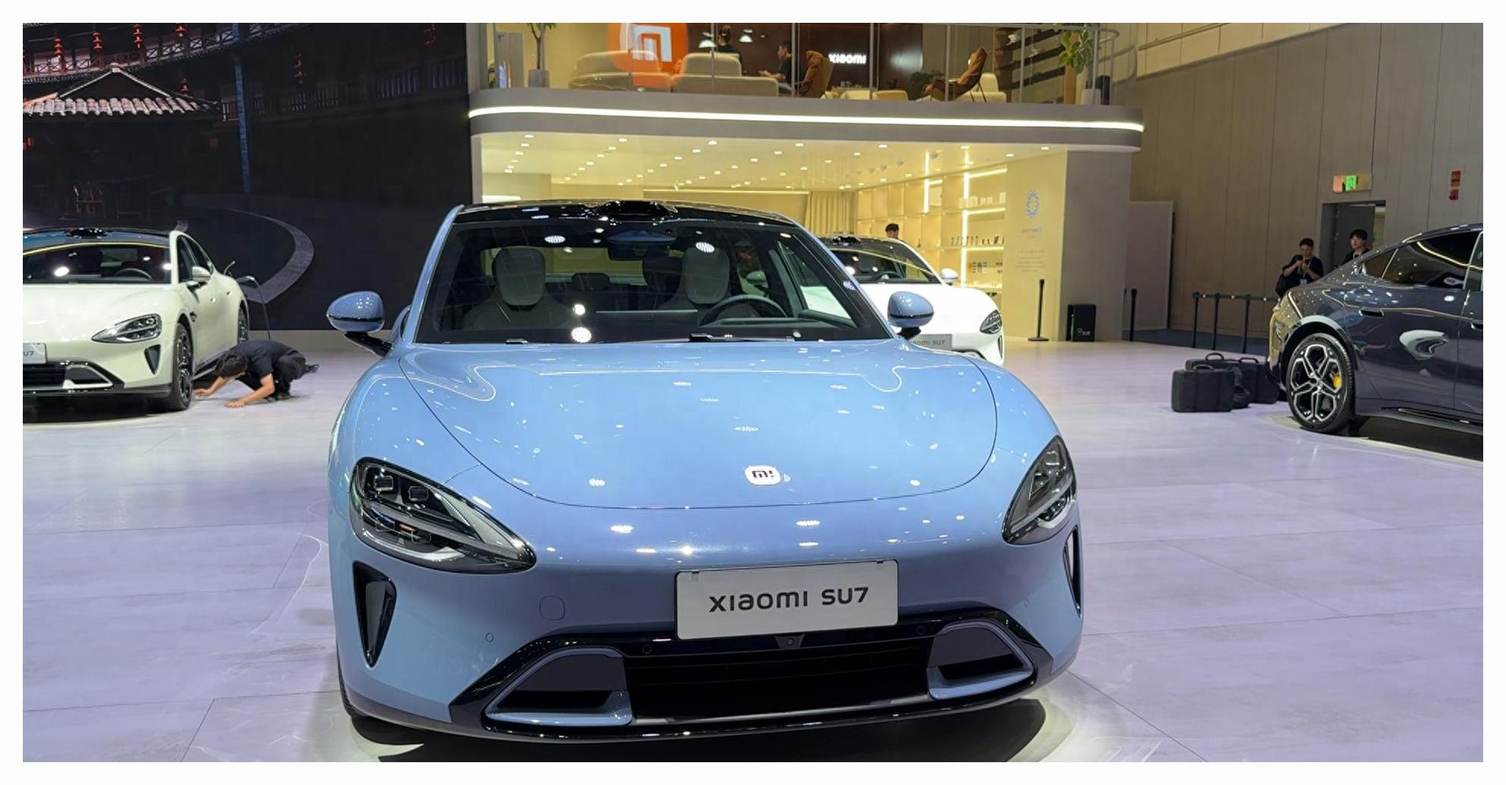su7: (317, 183, 1087, 785), (1272, 189, 1506, 459), (0, 198, 261, 405), (812, 234, 1008, 354)
